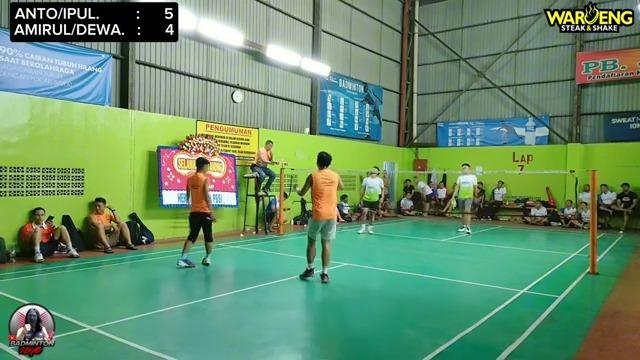Shuttlecock: (302, 124, 314, 136)
